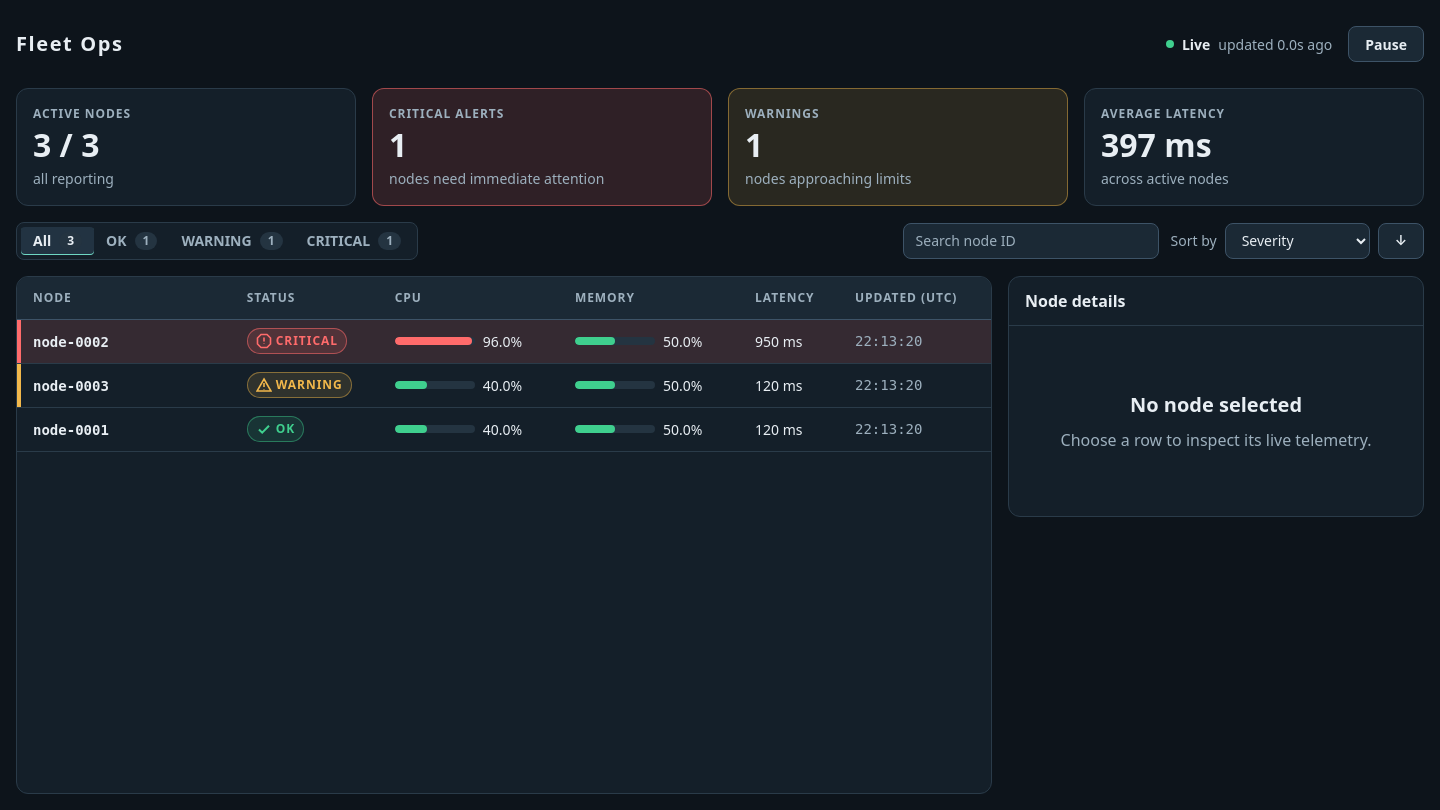
App › walks through the critical triage journey
This screenshot has width=1440, height=810.
Click the radio button labelled "CRITICAL 1".
click(354, 241)  # box [306,231,401,250]
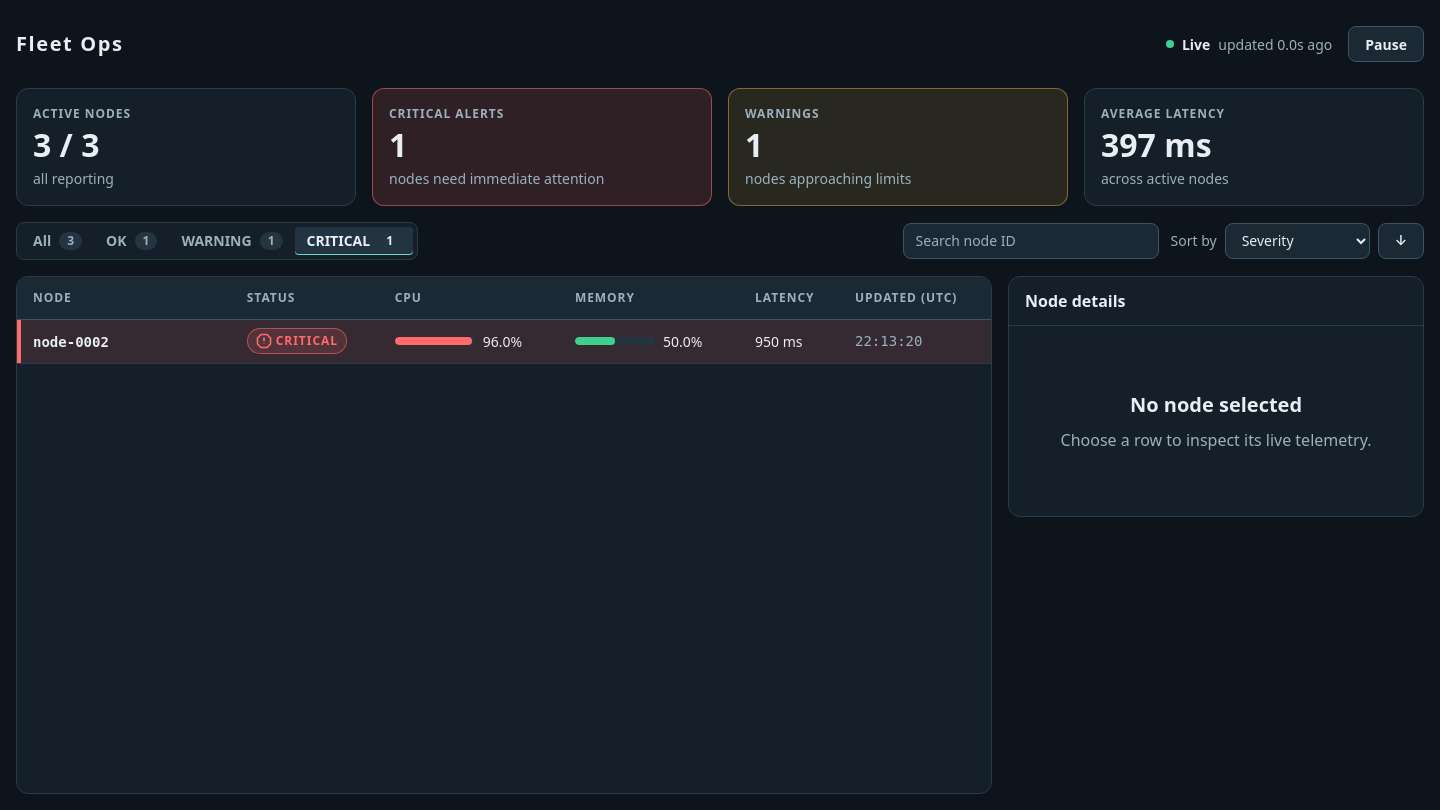
Check: the number of rows with test id "node-row" is 1, box [17,320,991,364]
Click the button "node-0002".
click(71, 342)  # box [33,334,109,350]
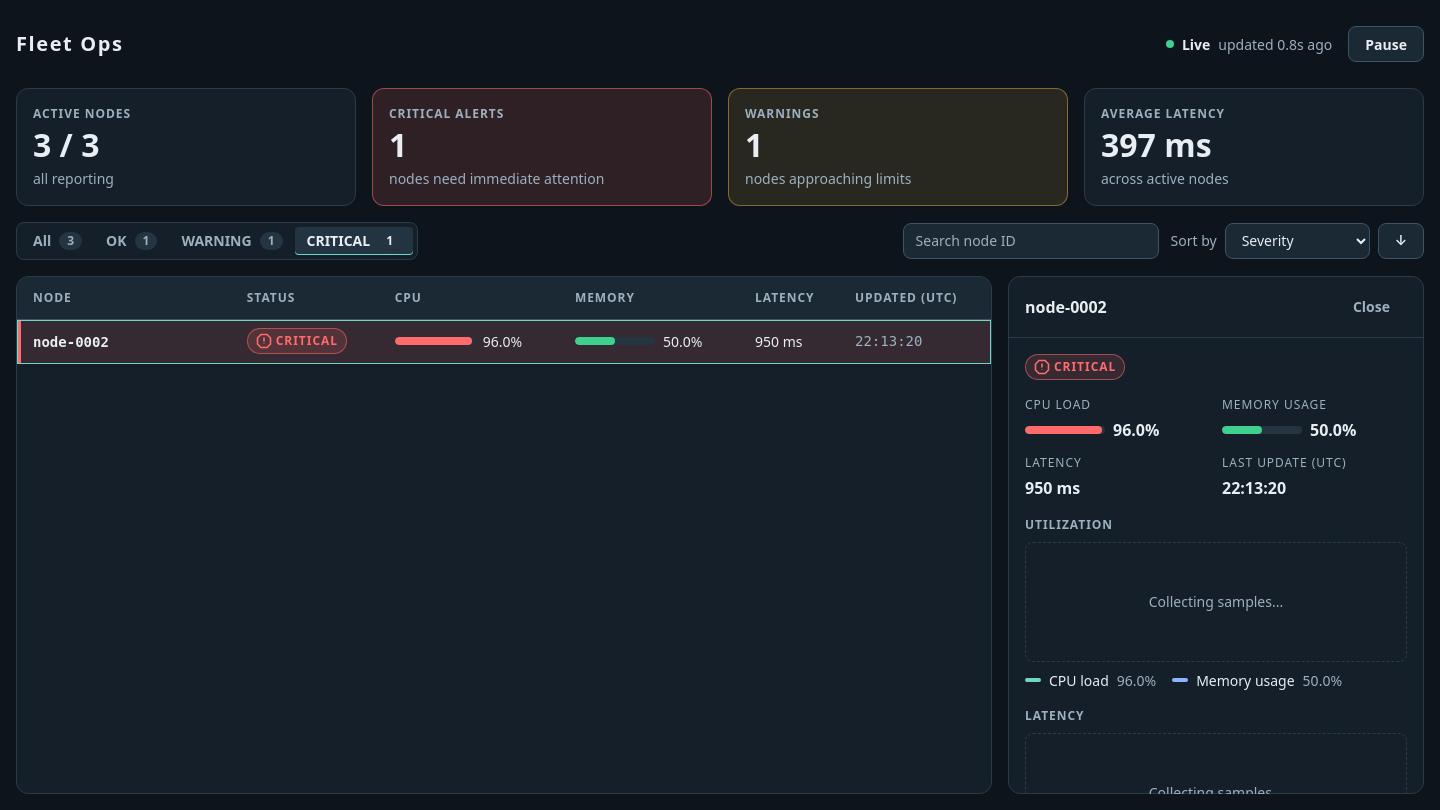
Check: the heading "node-0002" is shown, box [1025,295,1107,319]
Check: the text "96.0%" is shown, box [1025,419,1159,441]
Check: the text "950 ms" is shown, box [1025,477,1080,499]
